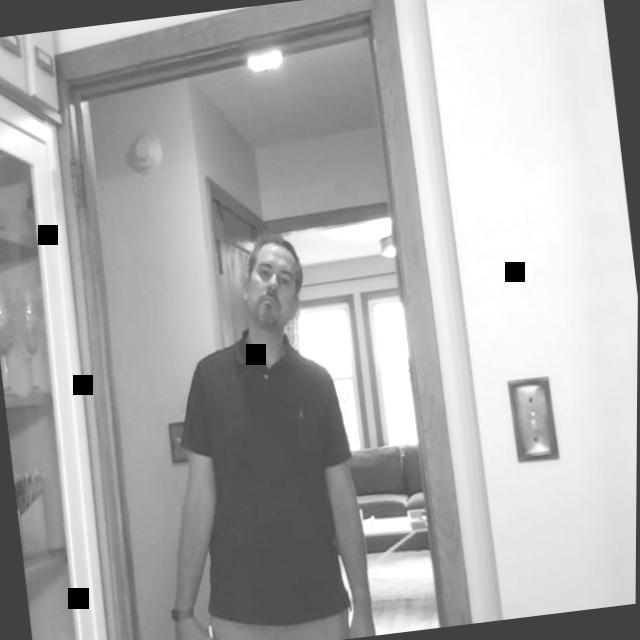NO-Mask: (240, 232, 311, 340)
